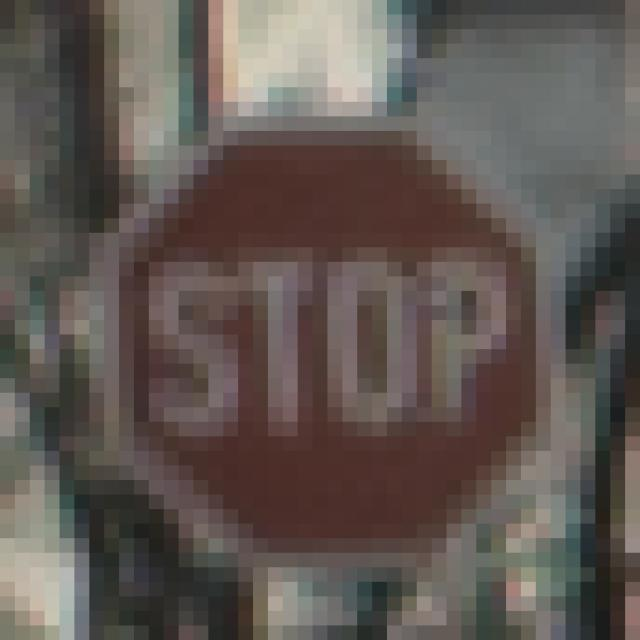STOP: (76, 89, 567, 569)
